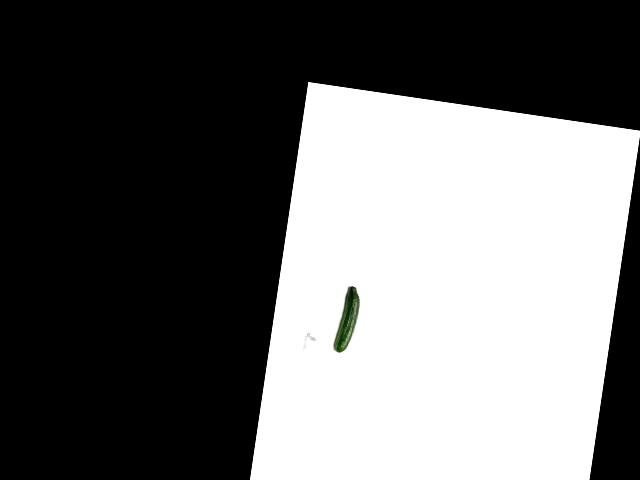cucumber: (333, 285, 361, 355)
